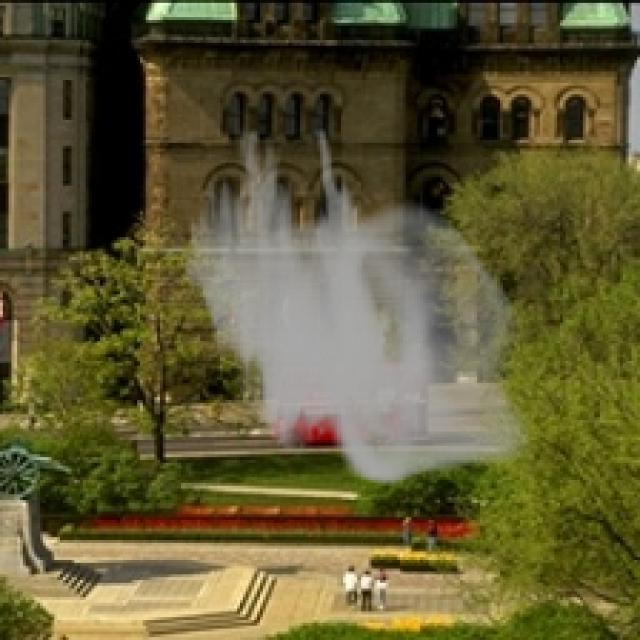smoke: (180, 128, 531, 486)
